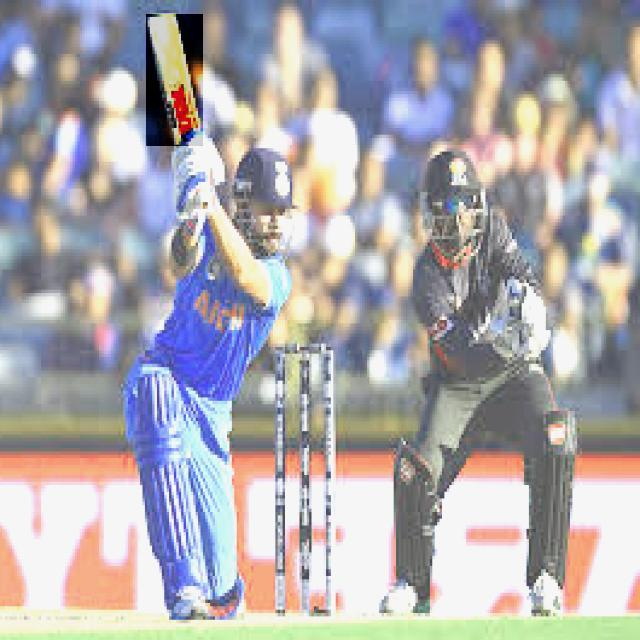bat: (147, 10, 205, 145)
toe: (148, 13, 176, 20)
